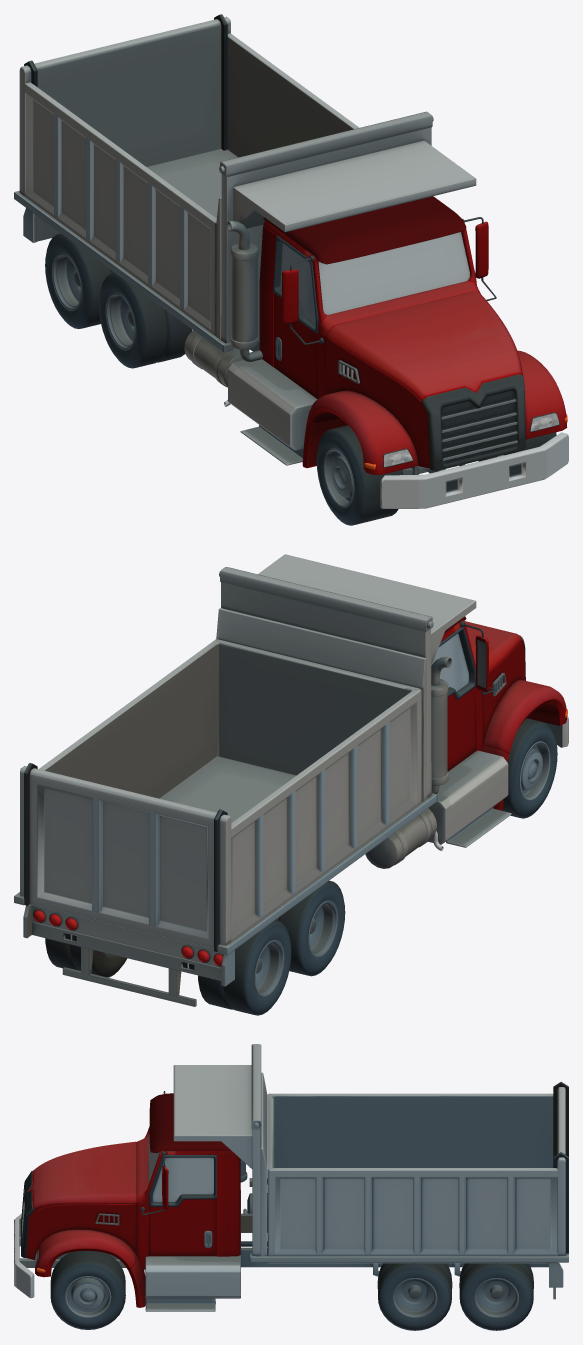
3 views of the same model, one above another, from view 1: azimuth 30°, elevation 25°; view 2: azimuth 150°, elevation 25°; view 3: azimuth 270°, elevation 25° (orthographic). The views are drawn at different scales.
Visible parts, largest first — view 1: commercial_truck.1; view 2: commercial_truck.1; view 3: commercial_truck.1.
Part boxes in pixels (box(x1,y1,x2,y2)): commercial_truck.1: box(14, 14, 568, 525); commercial_truck.1: box(14, 554, 568, 1015); commercial_truck.1: box(14, 1044, 568, 1330).
Bounding box in the file's own units: 1.83 × 2.17 × 5.13.
1 material, 1 textured.
